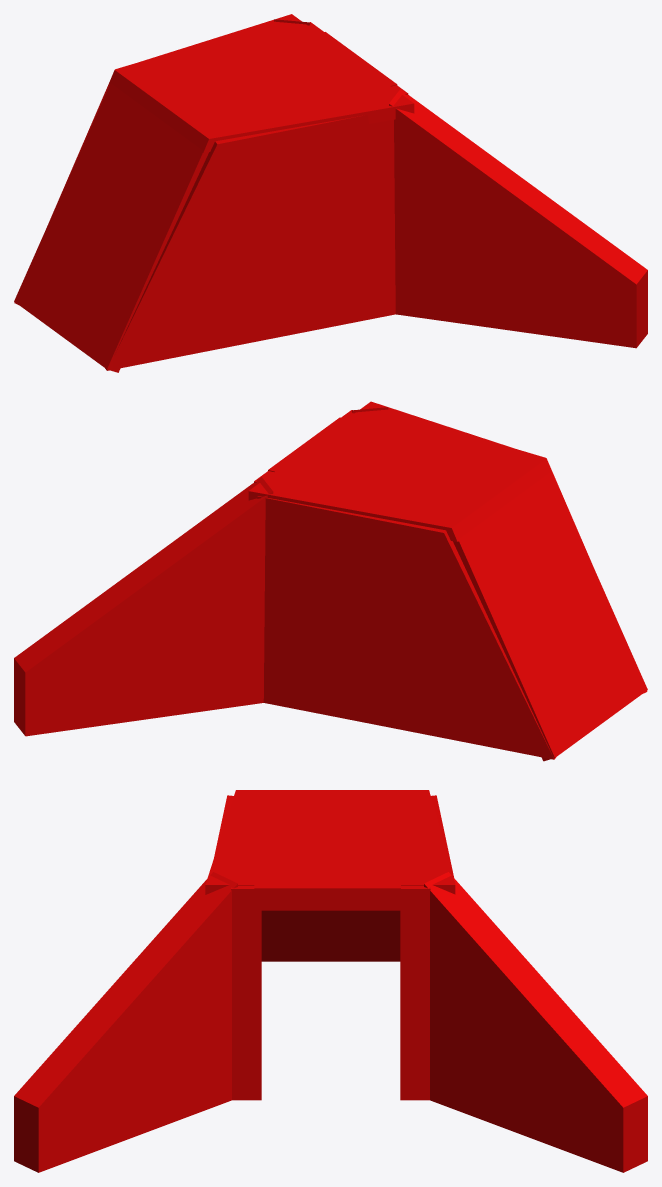
File: SM_Bld_Bunker_Entrance_01_Collision.fbx
3 views of the same model, one above another, from view 1: azimuth 30°, elevation 25°; view 2: azimuth 150°, elevation 25°; view 3: azimuth 270°, elevation 25° (orthographic). The views are drawn at different scales.
Visible parts, largest first — view 1: SM_Bld_Bunker_Entrance_01_Collision; view 2: SM_Bld_Bunker_Entrance_01_Collision; view 3: SM_Bld_Bunker_Entrance_01_Collision.
Boxes of the visible parts, x1=… form: SM_Bld_Bunker_Entrance_01_Collision: x1=14, y1=14, x2=647, y2=372; SM_Bld_Bunker_Entrance_01_Collision: x1=14, y1=401, x2=647, y2=761; SM_Bld_Bunker_Entrance_01_Collision: x1=14, y1=790, x2=647, y2=1172.
Bounding box in the file's own units: 882 × 407 × 1067.
